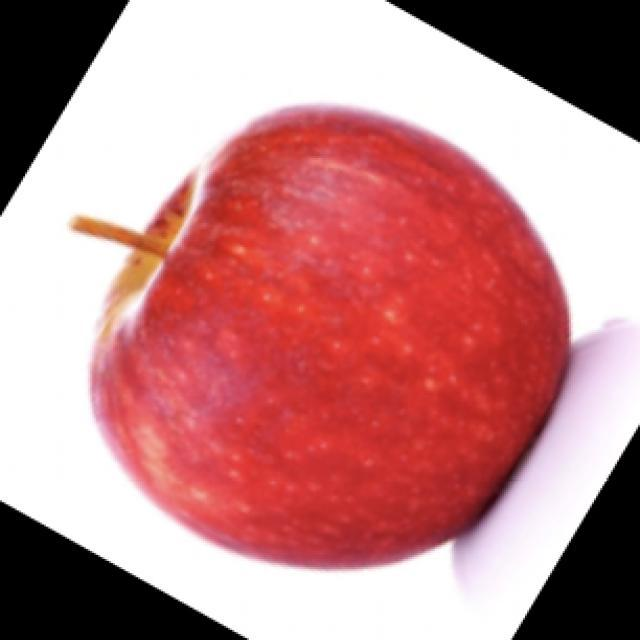Fresh Apple: (83, 99, 570, 588)
